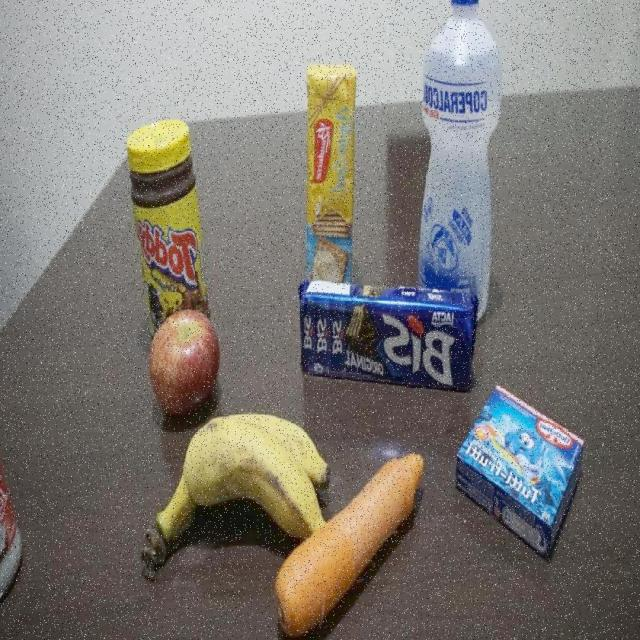AlcoholBottle: (418, 0, 495, 274)
Apple: (144, 306, 219, 396)
Banana: (129, 404, 274, 598)
Carrot: (275, 449, 429, 635)
ChocolatePowder: (130, 119, 200, 304)
Cracker: (304, 66, 356, 280)
Gelatine: (453, 384, 583, 564)
